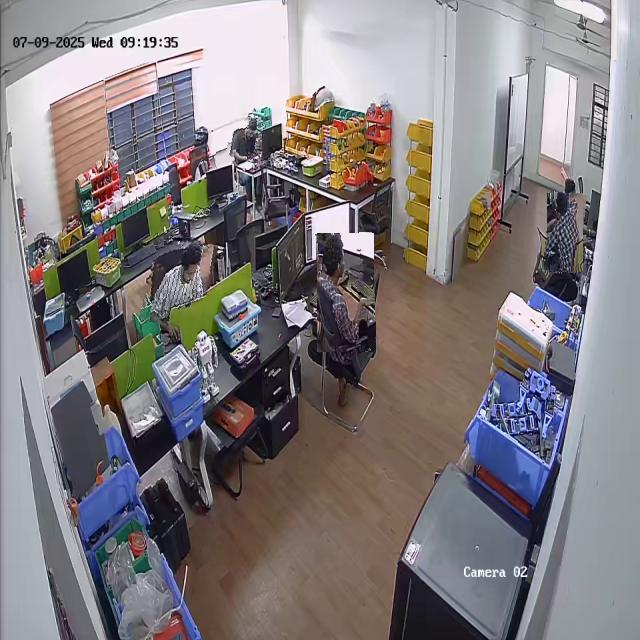person: (316, 233, 375, 352), (144, 235, 214, 331), (545, 192, 585, 273), (228, 115, 263, 160)
